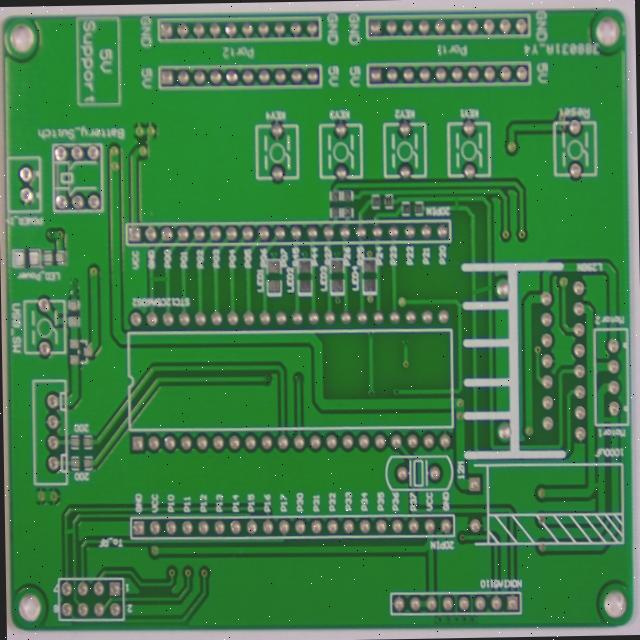short: (465, 275, 493, 302), (145, 263, 171, 289), (59, 519, 77, 541), (586, 474, 604, 494), (446, 192, 463, 213)
